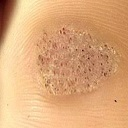Wart: (37, 29, 117, 90)
